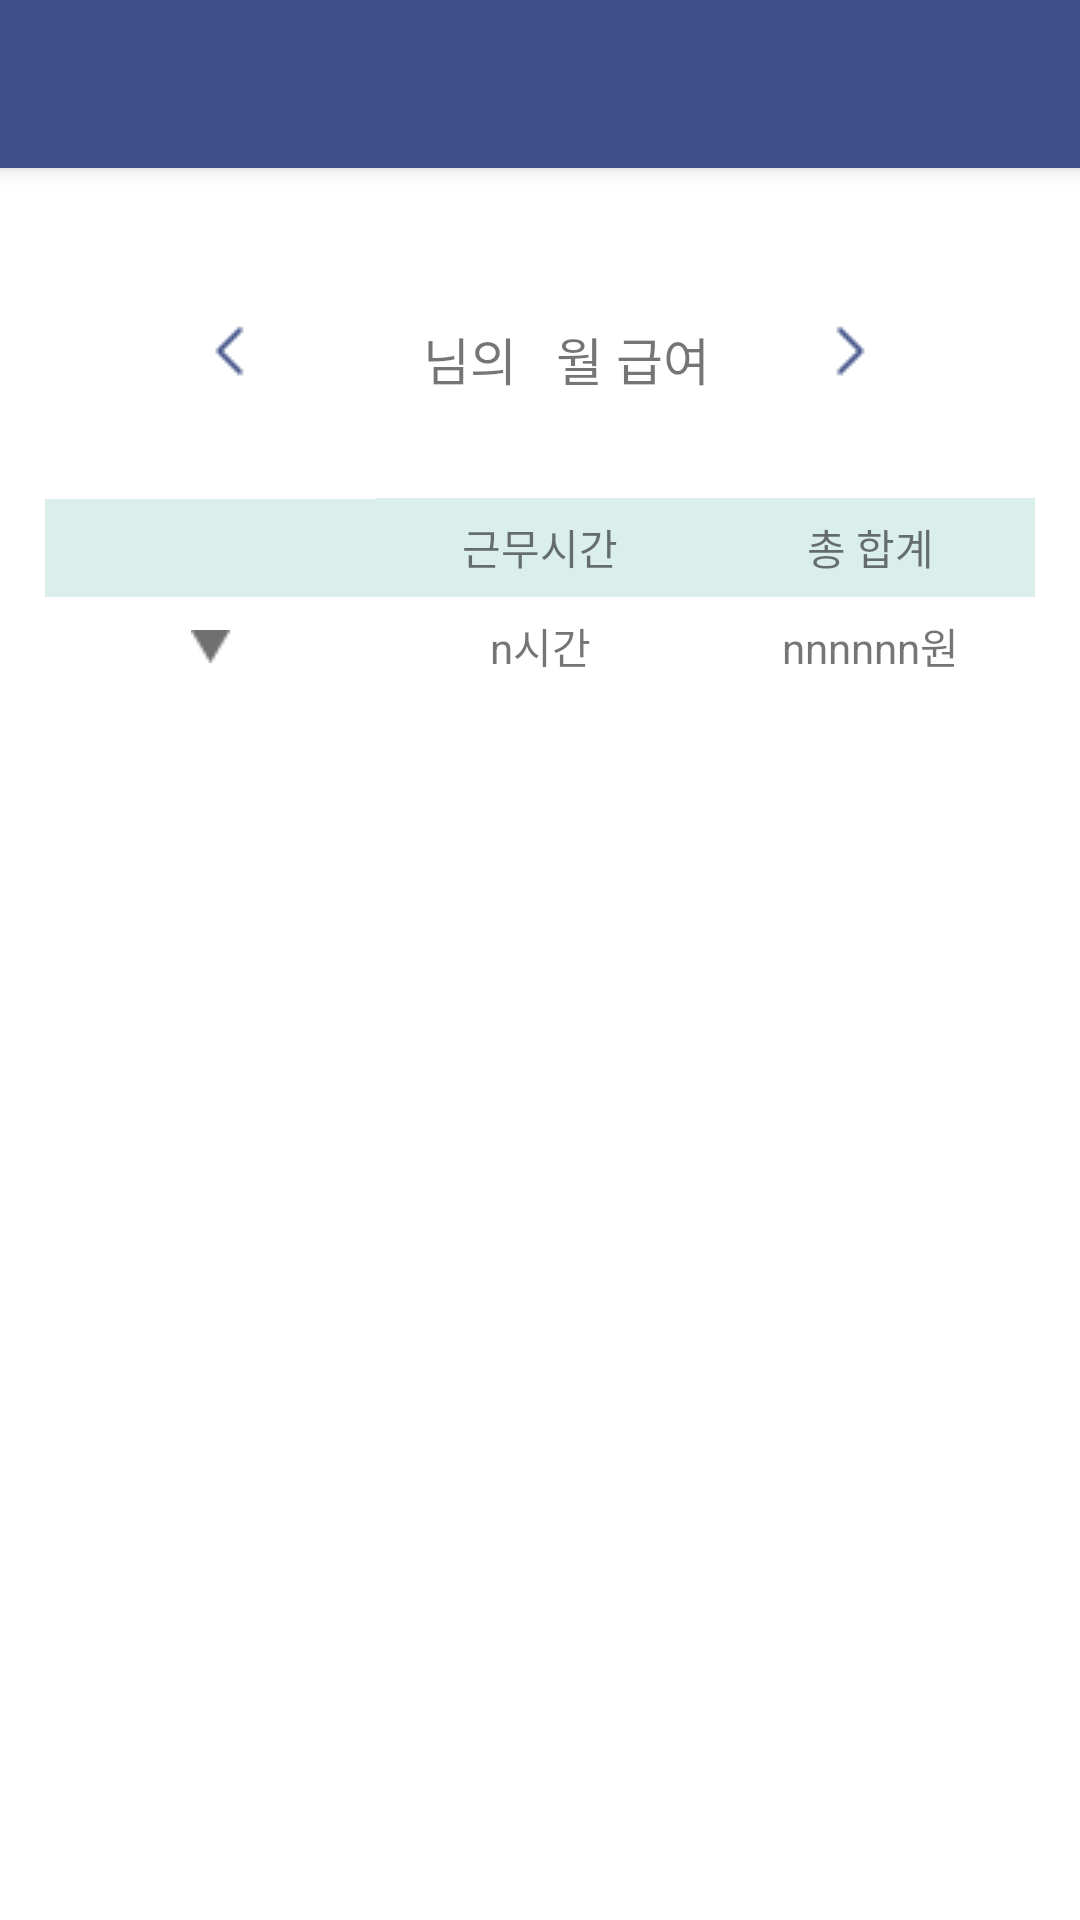

Where icons sit on this 1080px×1920px app screen, as Rect(x1, y1, x2, y2):
left arrowbtn: Rect(215, 326, 244, 376)
notification down: Rect(191, 630, 230, 663)
right arrowbtn: Rect(836, 326, 865, 376)
